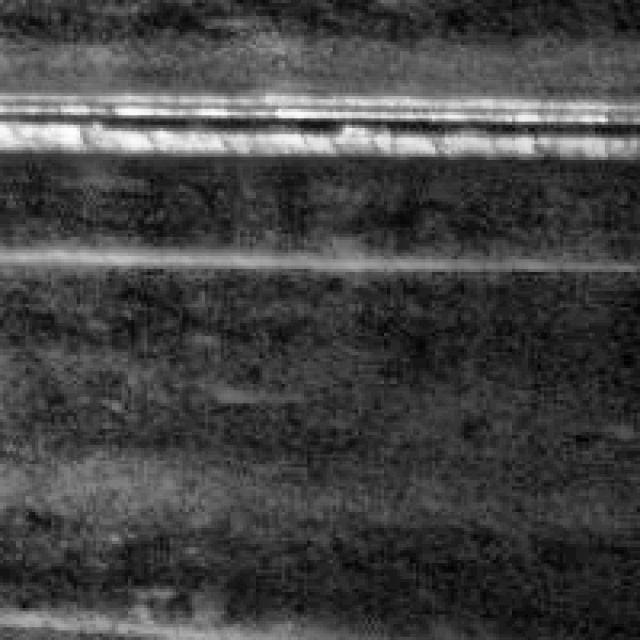Inclusion: (0, 77, 630, 157), (0, 224, 544, 275)
